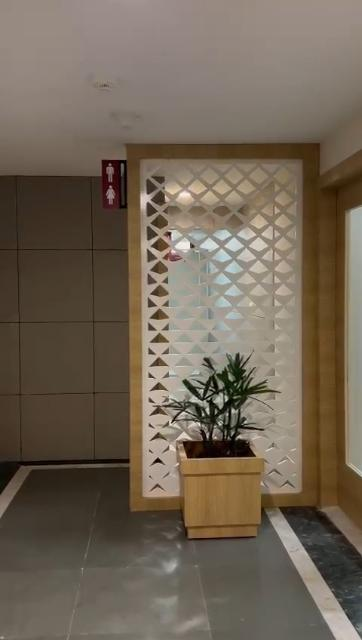floor: (0, 465, 362, 640)
object: (167, 359, 275, 543)
